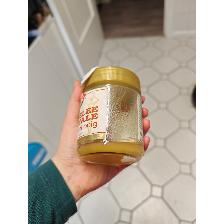Honig: (74, 66, 146, 166)
